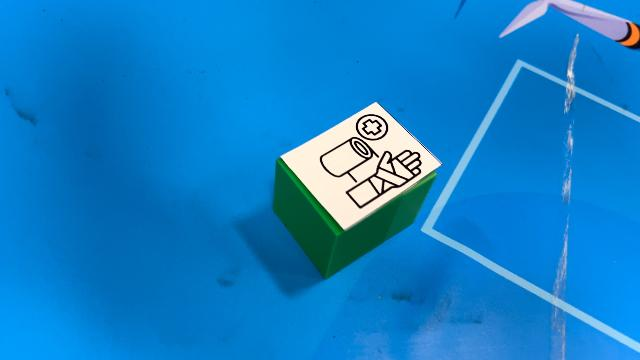bandage: (272, 101, 442, 279)
